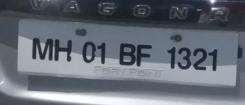0: (82, 39, 97, 65)
1: (207, 47, 220, 73), (164, 45, 177, 70), (96, 42, 108, 65)
2: (192, 47, 208, 72)
3: (177, 45, 193, 71)
B: (118, 40, 137, 67)
F: (135, 43, 153, 69)
H: (53, 37, 75, 62)
M: (31, 35, 54, 62)
